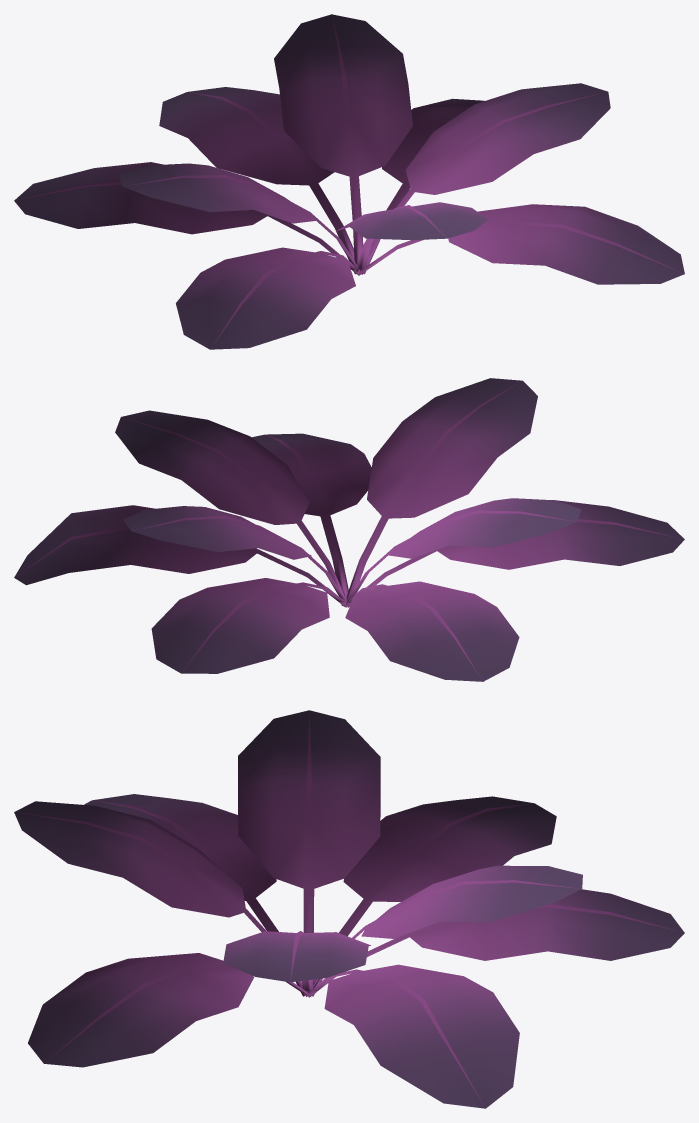
File: BiggerFern_Mesh.fbx
The picture shows the model from 3 angles, top to bottom: view 1: azimuth 30°, elevation 25°; view 2: azimuth 150°, elevation 25°; view 3: azimuth 270°, elevation 25°; orthographic projection. The views are drawn at different scales.
Visible parts, largest first — view 1: BiggerFern; view 2: BiggerFern; view 3: BiggerFern.
Part boxes in pixels (x1,y1,x2,y2): BiggerFern: (14, 14, 684, 349); BiggerFern: (14, 378, 684, 681); BiggerFern: (14, 710, 684, 1108).
Bounding box in the file's own units: 2.34 × 0.6179 × 2.37.
